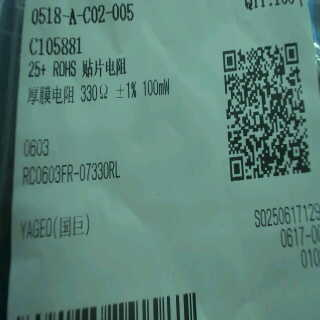330R: (76, 79, 114, 106)
